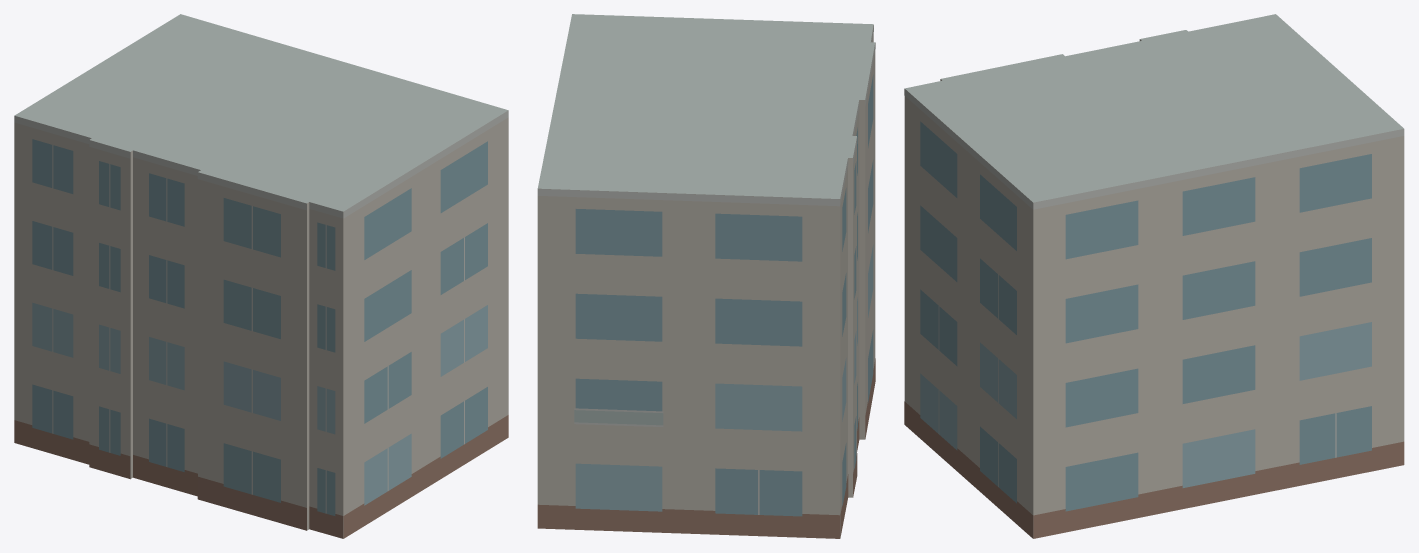
The model's file is survey-upis-32725805.glb.
The picture shows the model from 3 angles, left to right: view 1: azimuth 30°, elevation 25°; view 2: azimuth 150°, elevation 25°; view 3: azimuth 270°, elevation 25°; orthographic projection. The views are drawn at different scales.
Parts seen in each view (by area): view 1: survey-upis-32725805.tmp; view 2: survey-upis-32725805.tmp; view 3: survey-upis-32725805.tmp.
Part boxes in pixels (x1,y1,x2,y2): survey-upis-32725805.tmp: (14, 14, 508, 538); survey-upis-32725805.tmp: (537, 14, 875, 538); survey-upis-32725805.tmp: (904, 14, 1404, 538).
Size of the model in its own units: 13.95 by 11.58 by 15.61.
